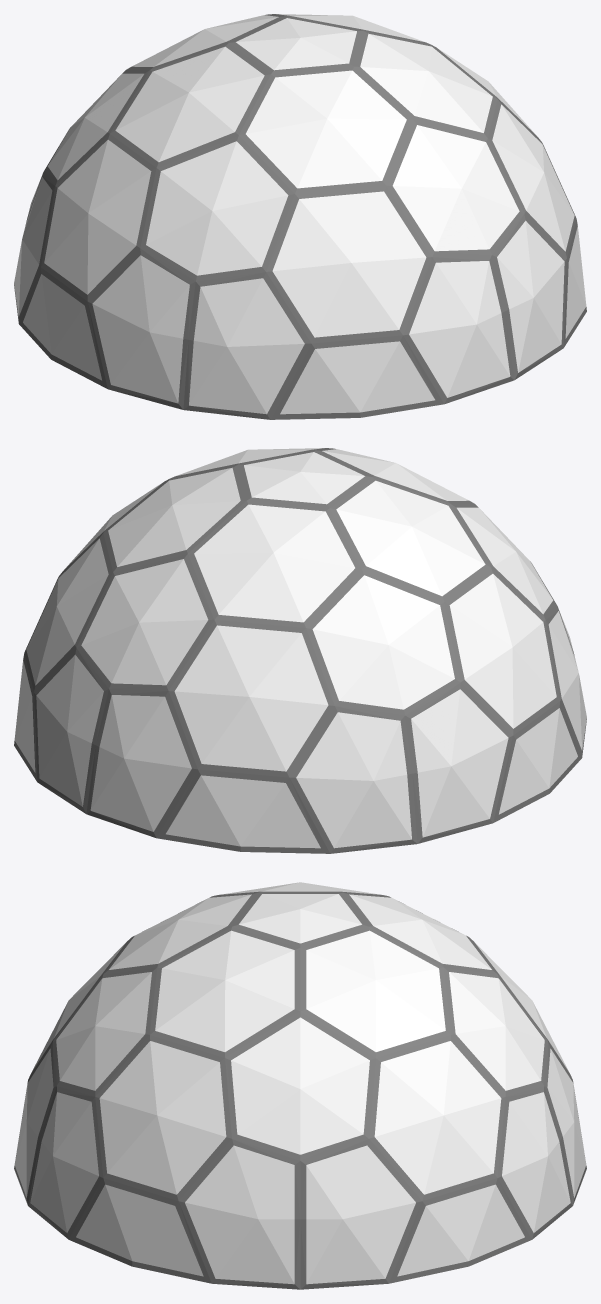
The model's file is dome.obj.
3 views of the same model, one above another, from view 1: azimuth 30°, elevation 25°; view 2: azimuth 150°, elevation 25°; view 3: azimuth 270°, elevation 25° (orthographic).
Parts seen in each view (by area): view 1: Icosphere_Icosphere.002; view 2: Icosphere_Icosphere.002; view 3: Icosphere_Icosphere.002.
Boxes of the visible parts, x1,y1,x2,y2 form: Icosphere_Icosphere.002: (14, 14, 586, 419); Icosphere_Icosphere.002: (14, 448, 586, 853); Icosphere_Icosphere.002: (14, 882, 586, 1289).
Bounding box in the file's own units: 320 × 160 × 320.
Materials: 1 (1 with a texture image).
